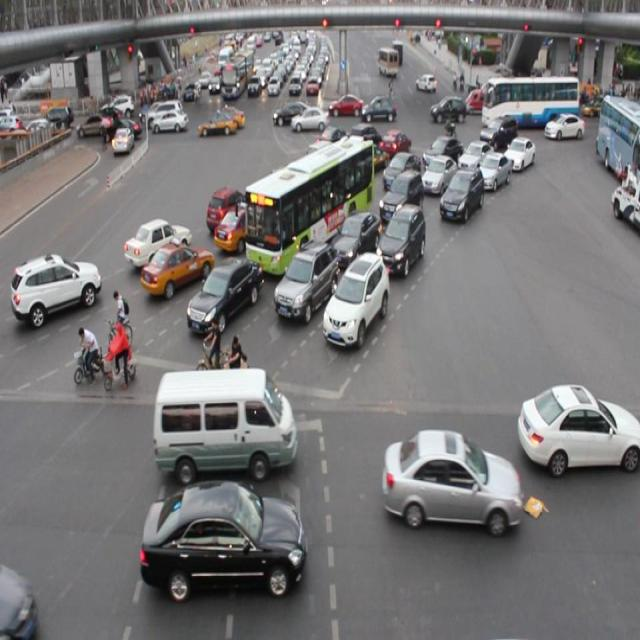car: (142, 479, 305, 597), (381, 426, 521, 530), (516, 382, 640, 470), (322, 250, 388, 346), (11, 250, 102, 319), (186, 260, 260, 327), (274, 240, 334, 318), (140, 242, 213, 292), (376, 203, 424, 273), (125, 217, 192, 267), (329, 210, 381, 265), (214, 206, 270, 251), (438, 167, 482, 221), (379, 170, 422, 218), (206, 187, 252, 229), (260, 167, 305, 209), (316, 163, 361, 201), (422, 136, 463, 176), (274, 188, 318, 224), (382, 151, 419, 192), (420, 155, 455, 196), (475, 152, 509, 192), (478, 118, 515, 152), (458, 140, 493, 175), (345, 123, 379, 156), (502, 136, 533, 171), (353, 142, 388, 173), (378, 130, 411, 158), (316, 126, 347, 151)
truck: (154, 368, 296, 473), (298, 140, 342, 182)
van: (245, 140, 372, 274)
